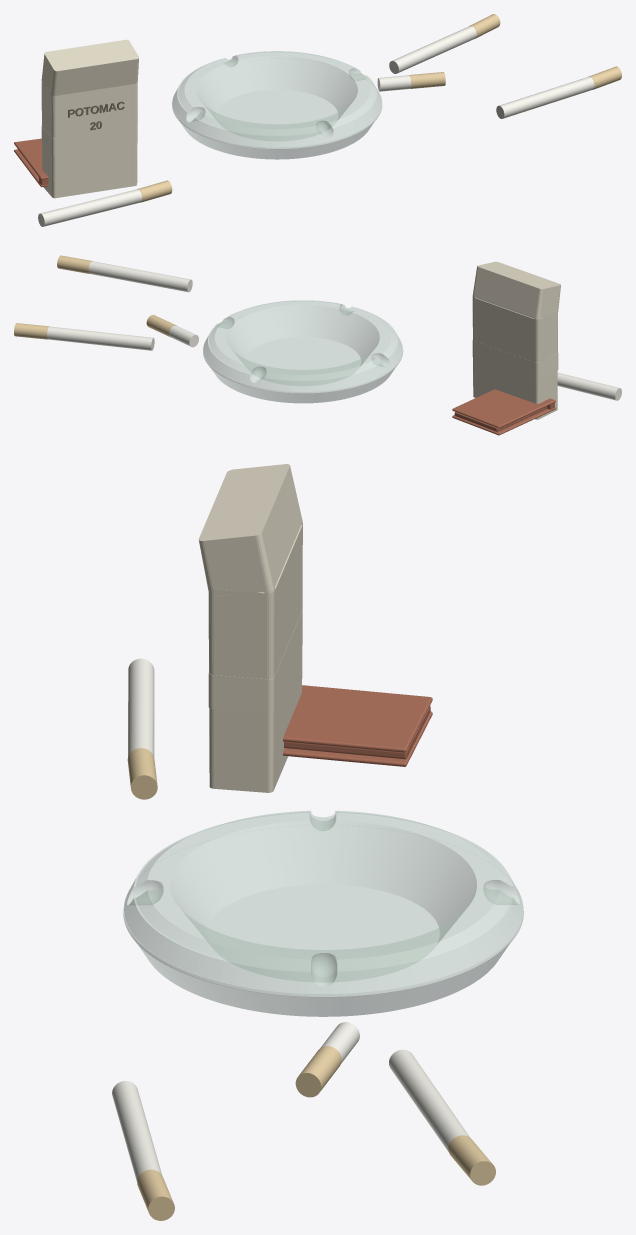
The model's file is X14_LRS1953_DESK_03_B.glb.
3 views of the same model, one above another, from view 1: azimuth 30°, elevation 25°; view 2: azimuth 150°, elevation 25°; view 3: azimuth 270°, elevation 25° (orthographic). The views are drawn at different scales.
Visible parts, largest first — view 1: PASS6F_ashtray_round_0_ashtray_round_Body, PASS6F_cigarette_pack_1_cigarette_pack_DCGraphics, PASS6F_cigarette_5_cigarette_Filter, PASS6F_cigarette_6_cigarette_Filter, PASS6F_cigarette_3_cigarette_Filter, PASS6F_matchbook_2_matchbook_DCGraphics, PASS6F_cigarette_4_cigarette_Paper, PASS6F_cigarette_4_cigarette_Filter, PASS6F_cigarette_5_cigarette_Paper, PASS6F_cigarette_6_cigarette_Paper, PASS6F_cigarette_pack_1_cigarette_pack_Body, PASS6F_cigarette_3_cigarette_Paper; view 2: PASS6F_ashtray_round_0_ashtray_round_Body, PASS6F_cigarette_pack_1_cigarette_pack_DCGraphics, PASS6F_matchbook_2_matchbook_DCGraphics, PASS6F_cigarette_3_cigarette_Filter, PASS6F_cigarette_6_cigarette_Filter, PASS6F_cigarette_5_cigarette_Filter, PASS6F_cigarette_3_cigarette_Paper, PASS6F_cigarette_6_cigarette_Paper, PASS6F_cigarette_4_cigarette_Filter, PASS6F_cigarette_4_cigarette_Paper; view 3: PASS6F_ashtray_round_0_ashtray_round_Body, PASS6F_cigarette_pack_1_cigarette_pack_DCGraphics, PASS6F_matchbook_2_matchbook_DCGraphics, PASS6F_cigarette_3_cigarette_Filter, PASS6F_cigarette_6_cigarette_Filter, PASS6F_cigarette_5_cigarette_Filter, PASS6F_cigarette_3_cigarette_Paper, PASS6F_cigarette_4_cigarette_Paper, PASS6F_cigarette_6_cigarette_Paper, PASS6F_cigarette_5_cigarette_Paper.
Part boxes in pixels (left/top/right/bottom): PASS6F_ashtray_round_0_ashtray_round_Body: left=172, top=51, right=382, bottom=159; PASS6F_cigarette_pack_1_cigarette_pack_DCGraphics: left=41, top=39, right=138, bottom=198; PASS6F_cigarette_5_cigarette_Filter: left=38, top=189, right=142, bottom=226; PASS6F_cigarette_6_cigarette_Filter: left=496, top=76, right=594, bottom=118; PASS6F_cigarette_3_cigarette_Filter: left=389, top=26, right=476, bottom=73; PASS6F_matchbook_2_matchbook_DCGraphics: left=14, top=138, right=48, bottom=187; PASS6F_cigarette_4_cigarette_Paper: left=409, top=72, right=445, bottom=88; PASS6F_cigarette_4_cigarette_Filter: left=377, top=75, right=411, bottom=91; PASS6F_cigarette_5_cigarette_Paper: left=137, top=180, right=172, bottom=202; PASS6F_cigarette_6_cigarette_Paper: left=588, top=66, right=621, bottom=89; PASS6F_cigarette_pack_1_cigarette_pack_Body: left=68, top=101, right=124, bottom=130; PASS6F_cigarette_3_cigarette_Paper: left=469, top=14, right=500, bottom=38; PASS6F_ashtray_round_0_ashtray_round_Body: left=203, top=300, right=403, bottom=403; PASS6F_cigarette_pack_1_cigarette_pack_DCGraphics: left=472, top=261, right=560, bottom=419; PASS6F_matchbook_2_matchbook_DCGraphics: left=452, top=389, right=555, bottom=435; PASS6F_cigarette_3_cigarette_Filter: left=47, top=326, right=154, bottom=350; PASS6F_cigarette_6_cigarette_Filter: left=88, top=261, right=192, bottom=292; PASS6F_cigarette_5_cigarette_Filter: left=557, top=372, right=621, bottom=400; PASS6F_cigarette_3_cigarette_Paper: left=14, top=323, right=49, bottom=339; PASS6F_cigarette_6_cigarette_Paper: left=57, top=255, right=91, bottom=273; PASS6F_cigarette_4_cigarette_Filter: left=169, top=325, right=198, bottom=347; PASS6F_cigarette_4_cigarette_Paper: left=146, top=315, right=176, bottom=337; PASS6F_ashtray_round_0_ashtray_round_Body: left=123, top=810, right=523, bottom=1016; PASS6F_cigarette_pack_1_cigarette_pack_DCGraphics: left=198, top=464, right=302, bottom=792; PASS6F_matchbook_2_matchbook_DCGraphics: left=283, top=685, right=432, bottom=766; PASS6F_cigarette_3_cigarette_Filter: left=389, top=1049, right=469, bottom=1151; PASS6F_cigarette_6_cigarette_Filter: left=112, top=1081, right=161, bottom=1182; PASS6F_cigarette_5_cigarette_Filter: left=128, top=658, right=154, bottom=756; PASS6F_cigarette_3_cigarette_Paper: left=448, top=1135, right=495, bottom=1185; PASS6F_cigarette_4_cigarette_Paper: left=295, top=1046, right=341, bottom=1097; PASS6F_cigarette_6_cigarette_Paper: left=137, top=1169, right=174, bottom=1220; PASS6F_cigarette_5_cigarette_Paper: left=127, top=748, right=157, bottom=799.
Bounding box in the file's own units: 0.3818 × 0.0847 × 0.1228.
